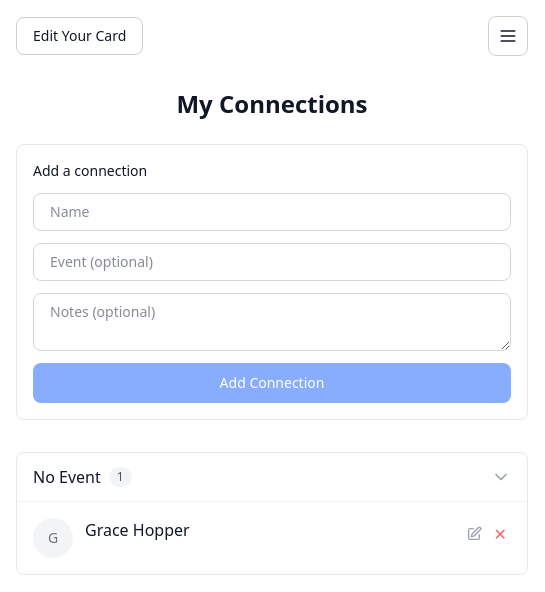
Scenario: ConnectionsPage › deletes a connection after confirming
Check: the text "Grace Hopper" is shown, box [85,519,190,541]
Click the button named "Delete connection with Grace Hopper": (500, 534) [490,518,511,550]
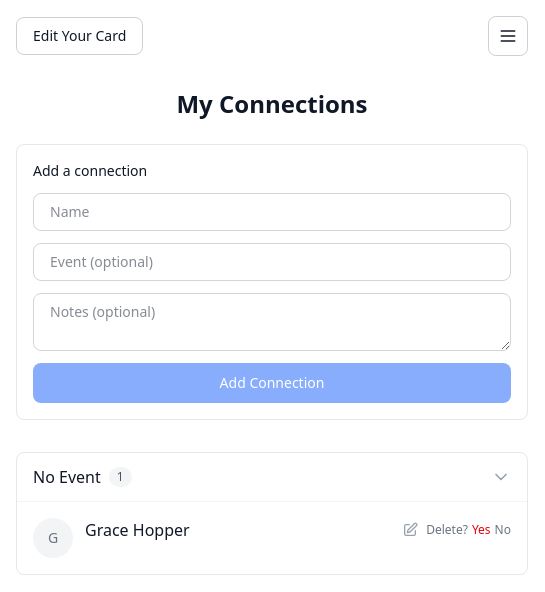
Click the button "Yes": (481, 530) [472,522,491,538]
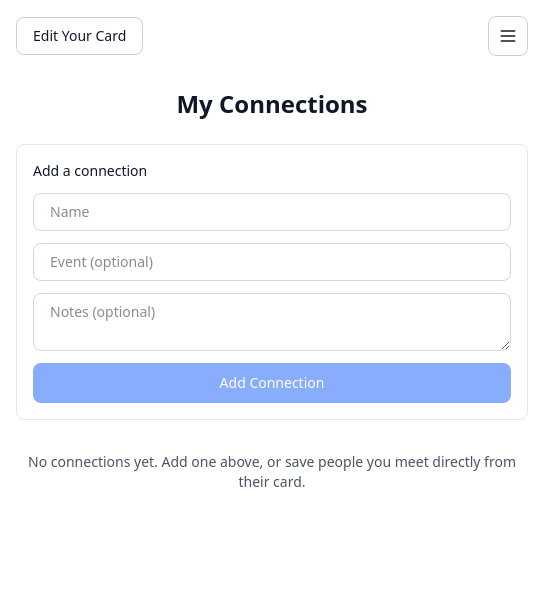
Check: the button "Grace Hopper" is gone
